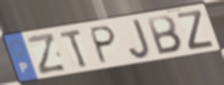B: (145, 14, 184, 57)
J: (128, 17, 152, 60)
P: (89, 24, 118, 66)
T: (58, 27, 91, 70)
Z: (25, 32, 68, 77), (175, 9, 216, 52)
